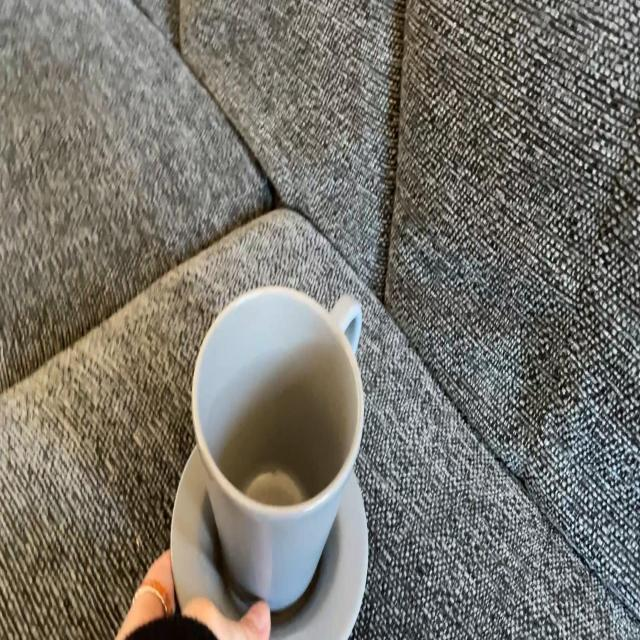cup: (184, 286, 369, 624)
